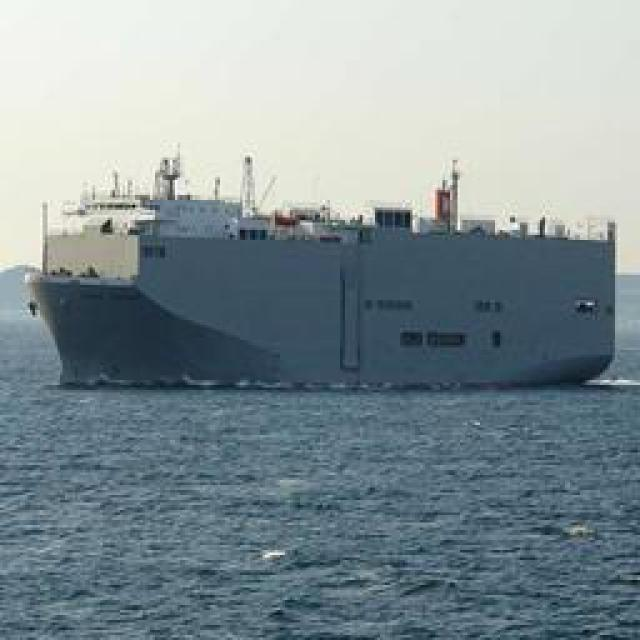Ship: (29, 182, 624, 400)
